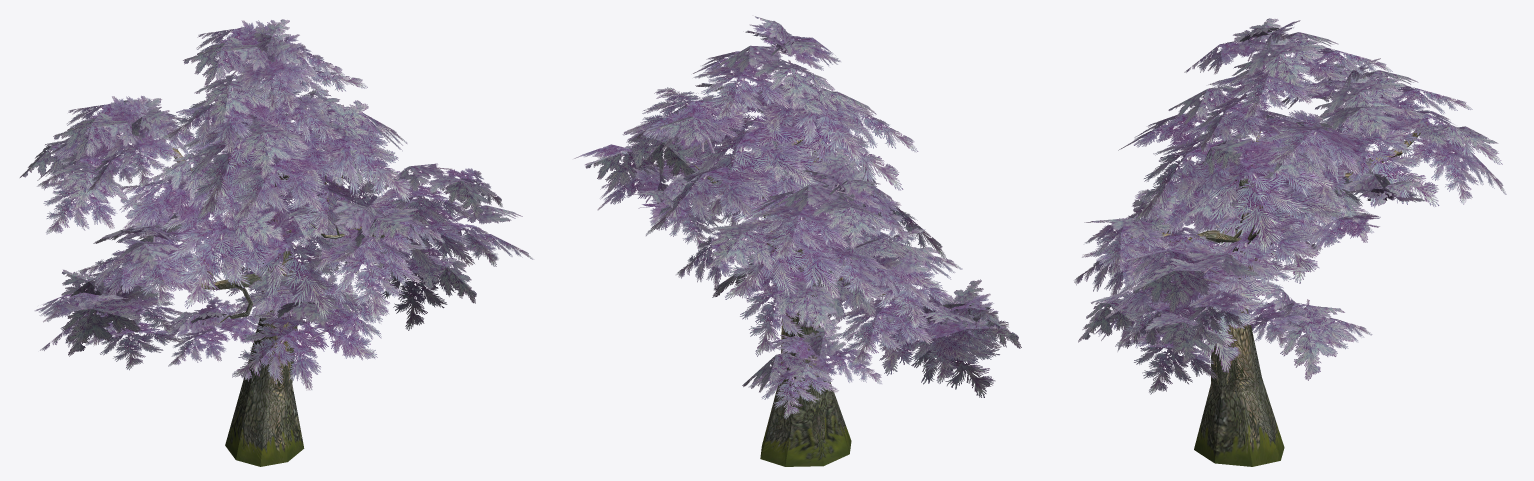
Rendered from shu_1.fbx.
The picture shows the model from 3 angles, left to right: view 1: azimuth 30°, elevation 25°; view 2: azimuth 150°, elevation 25°; view 3: azimuth 270°, elevation 25°; orthographic projection. The views are drawn at different scales.
Parts seen in each view (by area): view 1: Object423783, Object423781; view 2: Object423783, Object423781; view 3: Object423783, Object423781.
Part boxes in pixels (x1,y1,x2,y2): Object423783: [20, 19, 533, 390]; Object423781: [162, 147, 396, 466]; Object423783: [574, 16, 1021, 419]; Object423781: [692, 139, 886, 466]; Object423783: [1074, 18, 1506, 394]; Object423781: [1123, 117, 1427, 466].
Size of the model in its own units: 22.11 by 19.27 by 18.23.
